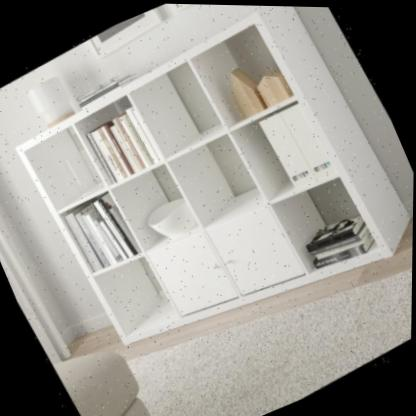Shelf: (0, 0, 416, 406)
